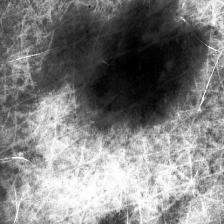Benign Marking or Mole: (33, 0, 208, 130)
